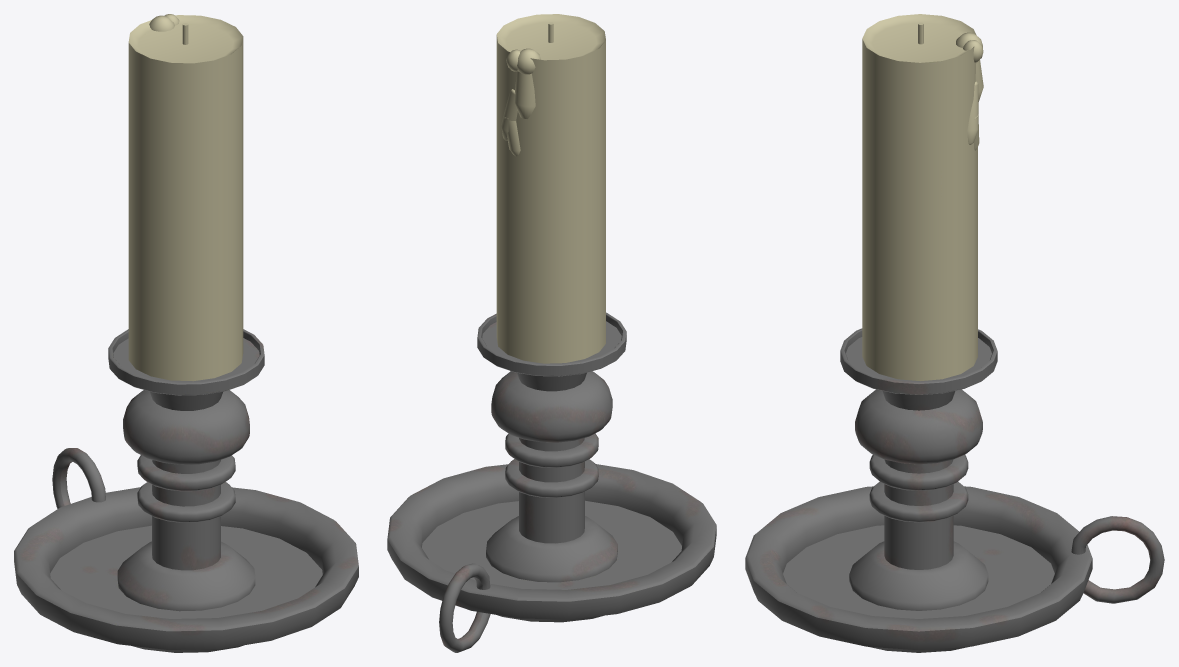
File: candle.glb
3 renders of one model, left to right at view 1: azimuth 30°, elevation 25°; view 2: azimuth 150°, elevation 25°; view 3: azimuth 270°, elevation 25°, orthographic. The views are drawn at different scales.
Parts seen in each view (by area): view 1: pCylinder2, pCylinder1, pCylinder3; view 2: pCylinder2, pCylinder1, pCylinder3, pCylinder5; view 3: pCylinder2, pCylinder1, pCylinder3.
Boxes of the visible parts, <box> form: pCylinder2: <box>14,329,358,652</box>; pCylinder1: <box>128,15,243,381</box>; pCylinder3: <box>52,448,105,508</box>; pCylinder2: <box>387,312,716,622</box>; pCylinder1: <box>496,14,605,363</box>; pCylinder3: <box>439,563,490,652</box>; pCylinder5: <box>514,71,535,118</box>; pCylinder2: <box>745,328,1092,652</box>; pCylinder1: <box>862,14,977,380</box>; pCylinder3: <box>1071,516,1164,603</box>.
Size of the model in its own units: 1.08 by 2 by 1.3.
1 material, 1 textured.
